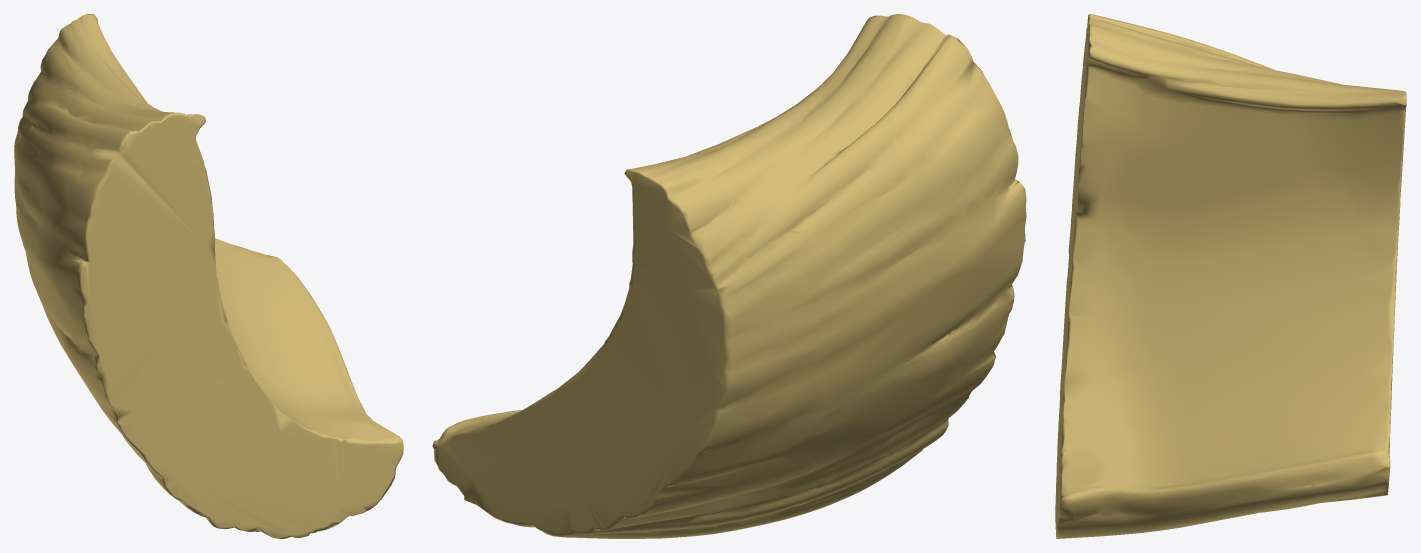
3 views of the same model, side by side, from view 1: azimuth 30°, elevation 25°; view 2: azimuth 150°, elevation 25°; view 3: azimuth 270°, elevation 25° (orthographic). The views are drawn at different scales.
Visible parts, largest first — view 1: 右侧大脑脚底; view 2: 右侧大脑脚底; view 3: 右侧大脑脚底.
Boxes of the visible parts, x1,y1,x2,y2 form: 右侧大脑脚底: (14, 14, 403, 538); 右侧大脑脚底: (432, 14, 1026, 538); 右侧大脑脚底: (1055, 14, 1406, 538).
Bounding box in the file's own units: 0.0277 × 0.0328 × 0.0239.
